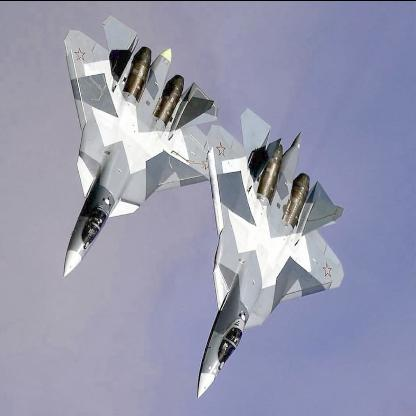SR71: (198, 105, 344, 397), (64, 13, 218, 277)
